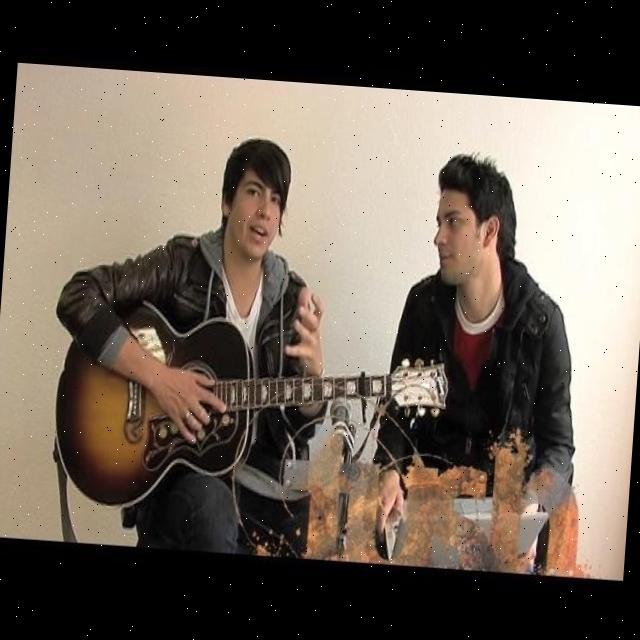guitar: (47, 289, 456, 536)
